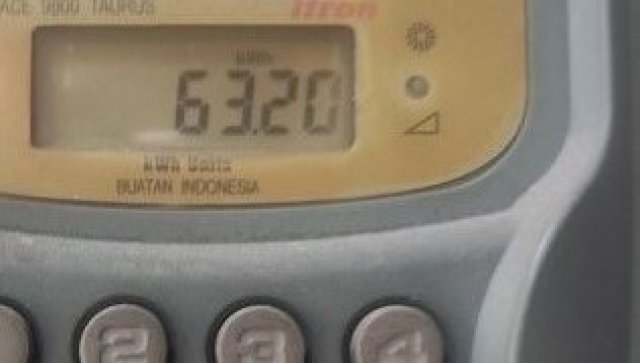box: (33, 27, 354, 150)
